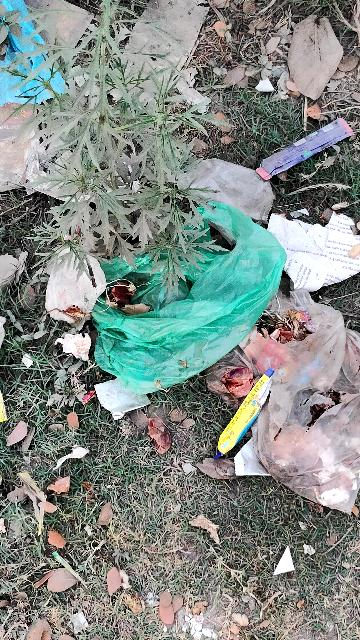polythene: (48, 176, 309, 397), (254, 313, 351, 518)
